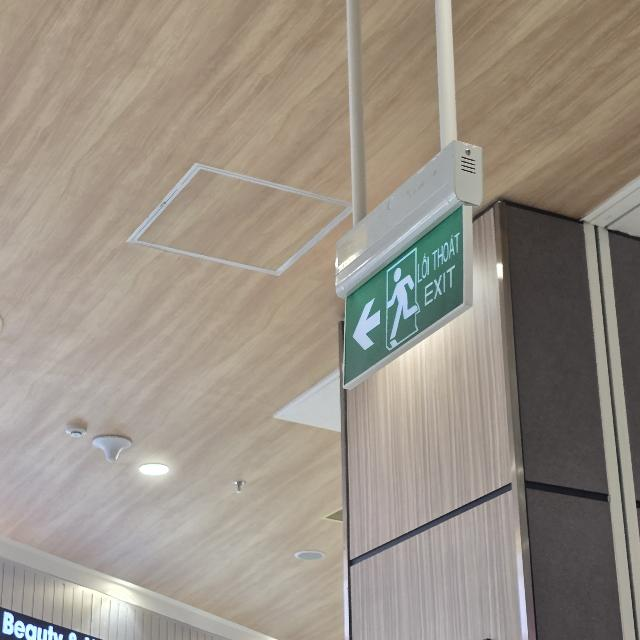exit: (344, 207, 473, 387)
